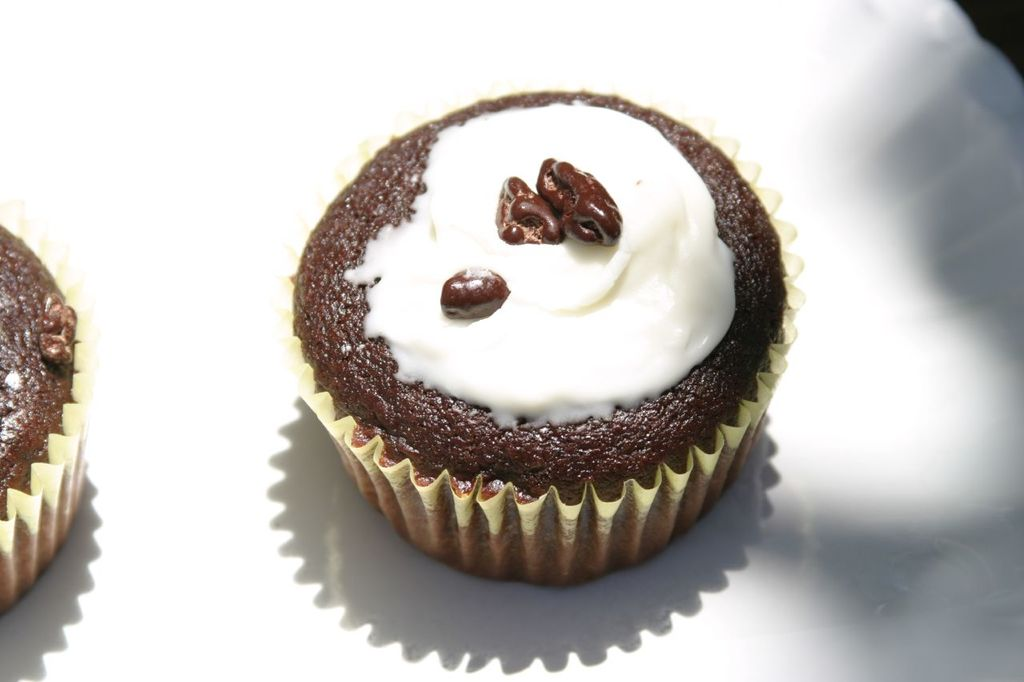cake: (292, 83, 801, 582), (0, 229, 88, 611)
